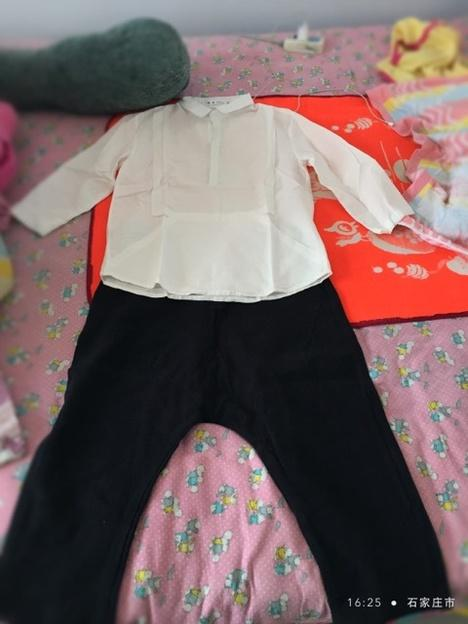C_M_pants: (4, 303, 452, 621)
S_shirt: (11, 94, 414, 304)
